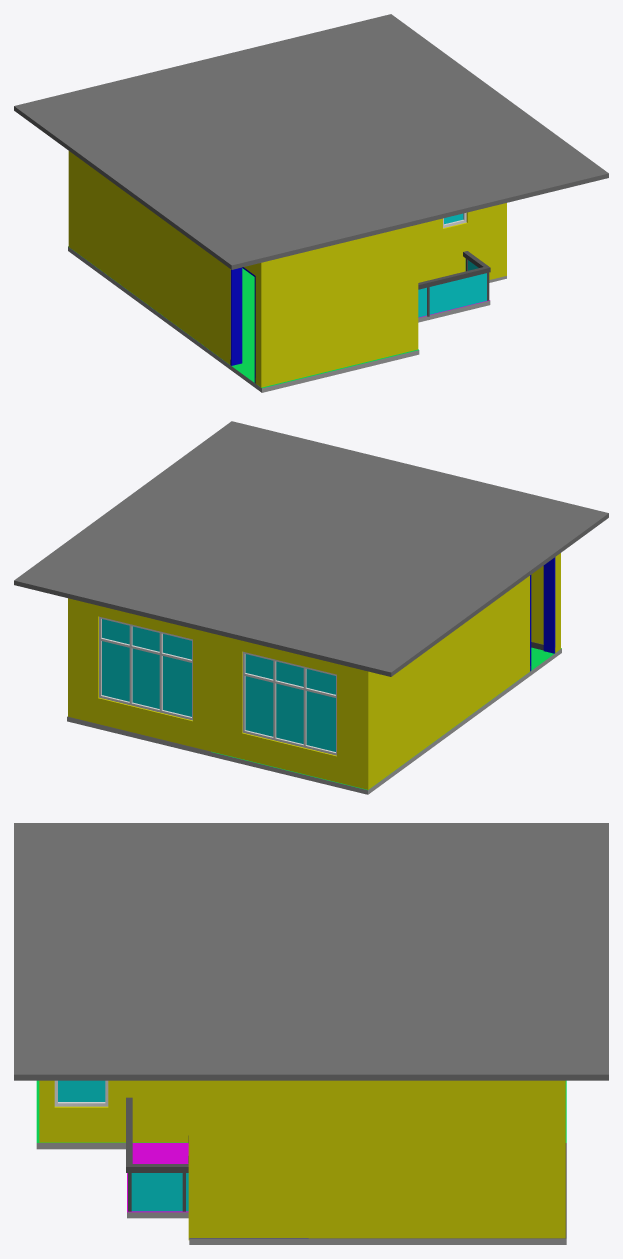
The model's file is Wing_A_Flat_No_02_Type01MatID.fbx.
The picture shows the model from 3 angles, top to bottom: view 1: azimuth 30°, elevation 25°; view 2: azimuth 150°, elevation 25°; view 3: azimuth 270°, elevation 25°; orthographic projection. The views are drawn at different scales.
Visible parts, largest first — view 1: Roof1, Flat_No_02_Type01:Wall1, pCube6, Flat_No_03_celling__DoorFrame_Skerting1:Glass2, pCube5, Balcony_Railing_01; view 2: Roof1, Flat_No_02_Type01:Wall1, Glass (×2), Window_Frame (×2), pCube6, pCube5; view 3: Roof1, Flat_No_02_Type01:Wall1, pCube6, Flat_No_03_celling__DoorFrame_Skerting1:Glass2, Glass4, Balcony_Railing_01.
Boxes of the visible parts, x1=… form: Roof1: x1=14, y1=14, x2=608, y2=269; Flat_No_02_Type01:Wall1: x1=68, y1=151, x2=506, y2=387; pCube6: x1=68, y1=246, x2=506, y2=392; Flat_No_03_celling__DoorFrame_Skerting1:Glass2: x1=418, y1=258, x2=486, y2=317; pCube5: x1=230, y1=267, x2=255, y2=382; Balcony_Railing_01: x1=418, y1=251, x2=490, y2=289; Roof1: x1=14, y1=421, x2=608, y2=676; Flat_No_02_Type01:Wall1: x1=68, y1=553, x2=560, y2=789; Glass (×2): x1=102, y1=619, x2=335, y2=751; Window_Frame (×2): x1=99, y1=616, x2=336, y2=755; pCube6: x1=67, y1=647, x2=561, y2=794; pCube5: x1=530, y1=557, x2=555, y2=670; Roof1: x1=14, y1=823, x2=608, y2=1080; Flat_No_02_Type01:Wall1: x1=39, y1=1080, x2=565, y2=1239; pCube6: x1=36, y1=1080, x2=566, y2=1244; Flat_No_03_celling__DoorFrame_Skerting1:Glass2: x1=131, y1=1173, x2=188, y2=1211; Glass4: x1=58, y1=1080, x2=105, y2=1101; Balcony_Railing_01: x1=126, y1=1097, x2=188, y2=1172.
Bounding box in the file's own units: 870 × 315 × 870.
